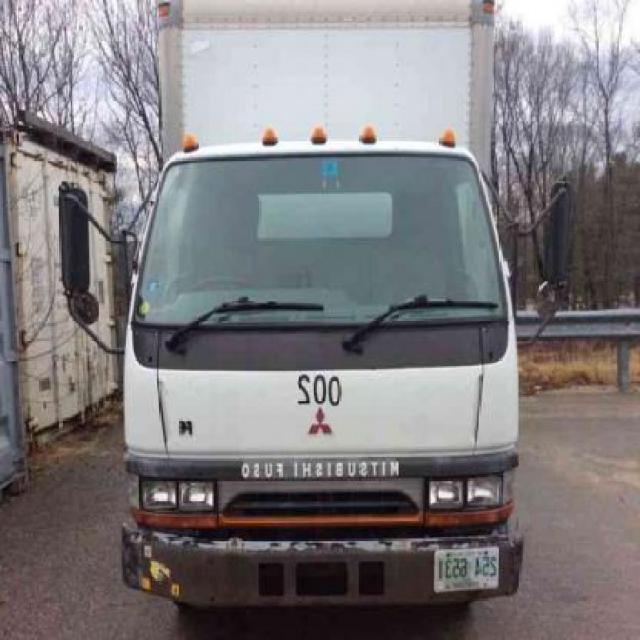truck: (62, 1, 576, 604)
